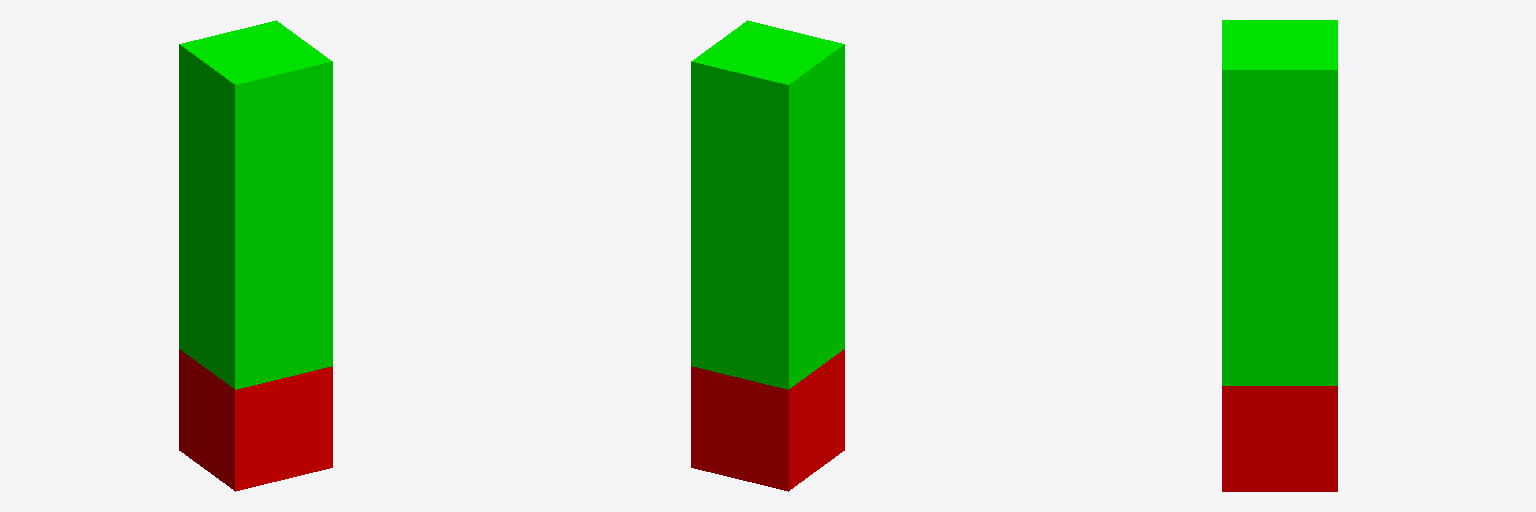
robot.urdf — lhand_robot:
<?xml version="1.0"?>
<robot name="lhand_robot">

  <link name="base_link">
    <visual>
      <geometry>
        <box size="0.2 0.2 0.2"/>
      </geometry>
      <material name="red">
        <color rgba="1 0 0 1"/>
      </material>
    </visual>
  </link>

  <link name="lhand_link">
    <visual>
      <origin rpy="0 0 0" xyz="0 0 0.3"/>
      <geometry>
        <box size="0.2 0.2 0.6"/>
      </geometry>
      <material name="green">
        <color rgba="0 1 0 1"/>
      </material>
    </visual>
  </link>

  <!--
    Joint limits are example values for XC330-T288-T with sample_trans (it is written later).
    effort: (Stall Torque [Nm]) * (mechanicalReduction in sample_trans) = 0.92 * 1.0
    velocity: (No Load Speed [rad/s]) / (mechanicalReduction in sample_trans) = (65 [rev/min] * 2 * pi / 60) / 1.0
  -->
  <joint name="lhand_joint" type="continuous">
    <origin rpy="0 0 0" xyz="0 0 0.1"/>
    <parent link="base_link"/>
    <child link="lhand_link"/>
    <axis xyz="0 1 0"/>
    <limit effort="2.00" velocity="6.8"/>
  </joint>

  <transmission name="lhand_trans">
    <type>transmission_interface/SimpleTransmission</type>
    <joint name="lhand_joint">
      <hardwareInterface>hardware_interface/PositionJointInterface</hardwareInterface>
      <hardwareInterface>hardware_interface/EffortJointInterface</hardwareInterface>
      <offset>0.0</offset>
    </joint>
    <actuator name="lhand_motor">
      <mechanicalReduction>1.0</mechanicalReduction>
    </actuator>
  </transmission>

</robot>

--- Facts derived from the render (not from the file) ---
The picture shows the robot from 3 angles, left to right: view 1: azimuth 30°, elevation 25°; view 2: azimuth 150°, elevation 25°; view 3: azimuth 270°, elevation 25°; orthographic projection.
Model lhand_robot with 2 links and 1 joints (1 continuous), rooted at base_link, posed all joints at 0.
Visible links, largest first — view 1: lhand_link, base_link; view 2: lhand_link, base_link; view 3: lhand_link, base_link.
Link boxes in pixels (<box>): lhand_link: <box>179,20,332,389</box>; base_link: <box>179,349,332,491</box>; lhand_link: <box>691,20,844,389</box>; base_link: <box>691,349,844,491</box>; lhand_link: <box>1222,20,1337,385</box>; base_link: <box>1222,386,1337,491</box>.
Bounding box of the posed robot: 0.2 × 0.2 × 0.8 m (x, y, z).
Geometry: primitives only (box / cylinder / sphere), no mesh files.
